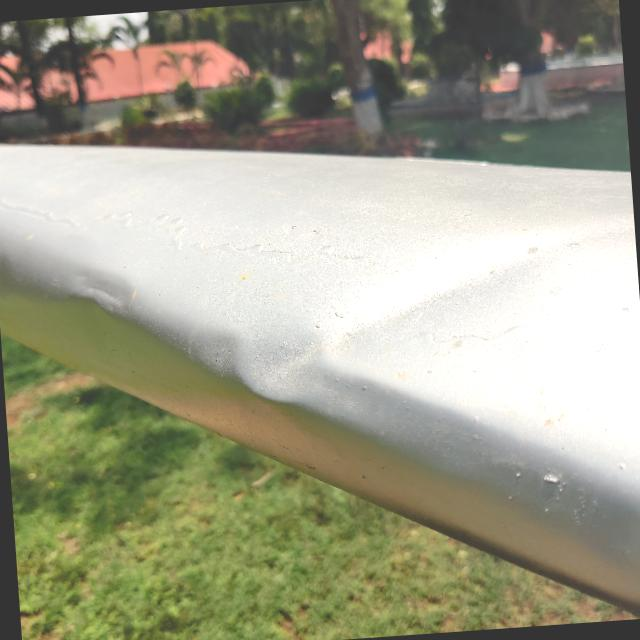dent: (210, 228, 542, 434), (63, 247, 149, 329)
